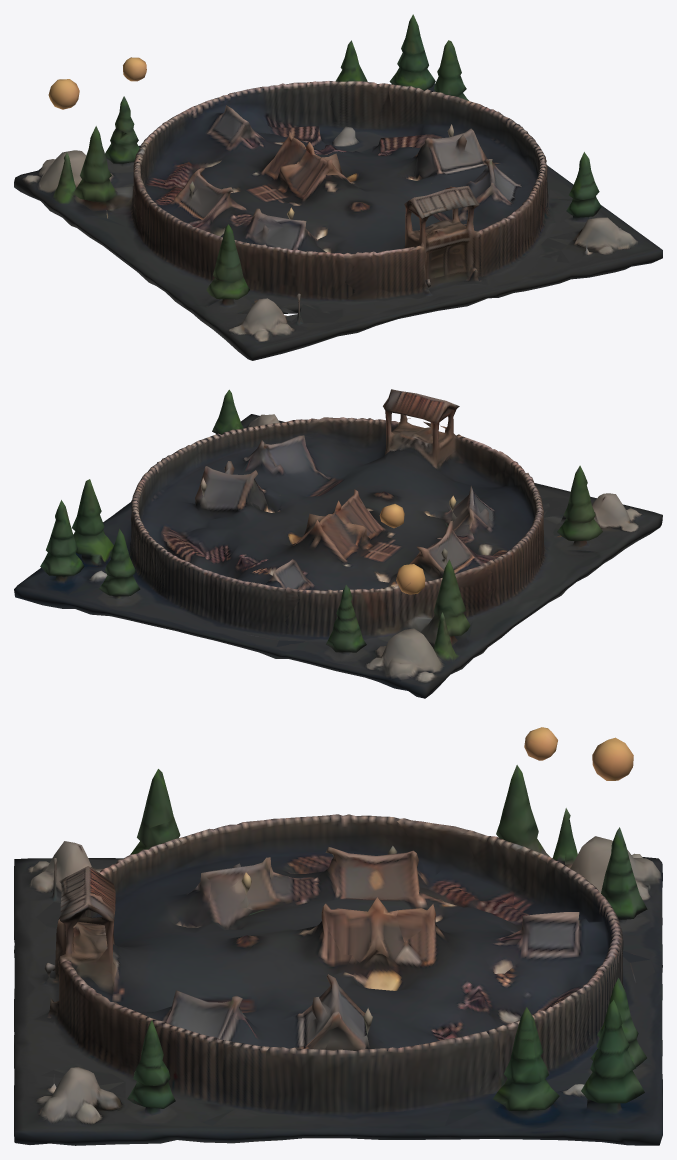
Rendered from medieval_village_diorama.glb.
3 views of the same model, one above another, from view 1: azimuth 30°, elevation 25°; view 2: azimuth 150°, elevation 25°; view 3: azimuth 270°, elevation 25° (orthographic). The views are drawn at different scales.
Parts seen in each view (by area): view 1: MedievalVillageDiorama; view 2: MedievalVillageDiorama; view 3: MedievalVillageDiorama.
Boxes of the visible parts, <box> form: MedievalVillageDiorama: <box>14,14,662,360</box>; MedievalVillageDiorama: <box>14,389,662,698</box>; MedievalVillageDiorama: <box>14,727,662,1145</box>.
Bounding box in the file's own units: 1 × 0.3314 × 1.
1 material, 1 textured.
